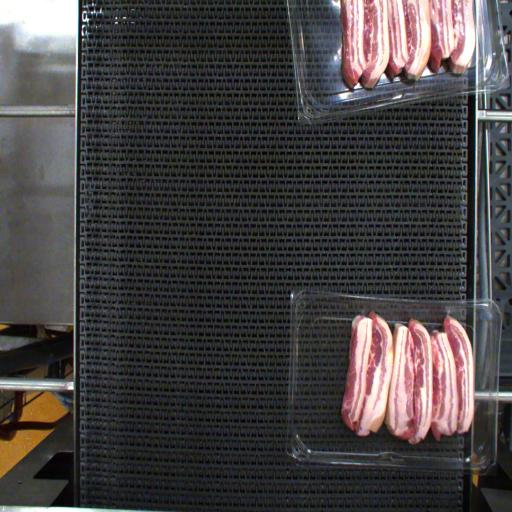packaging-error: (440, 302, 454, 319)
